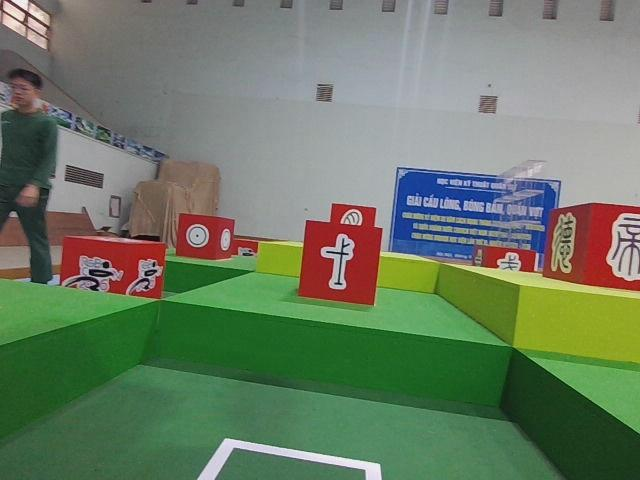R1: (58, 232, 168, 311)
R2 Fake: (541, 199, 640, 294)
R2 Real: (296, 217, 385, 307), (173, 209, 237, 263)
